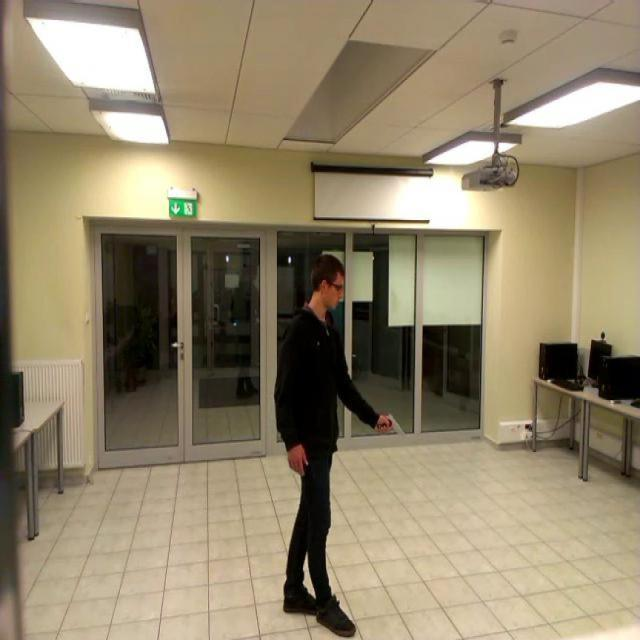pistol: (378, 412, 406, 437)
